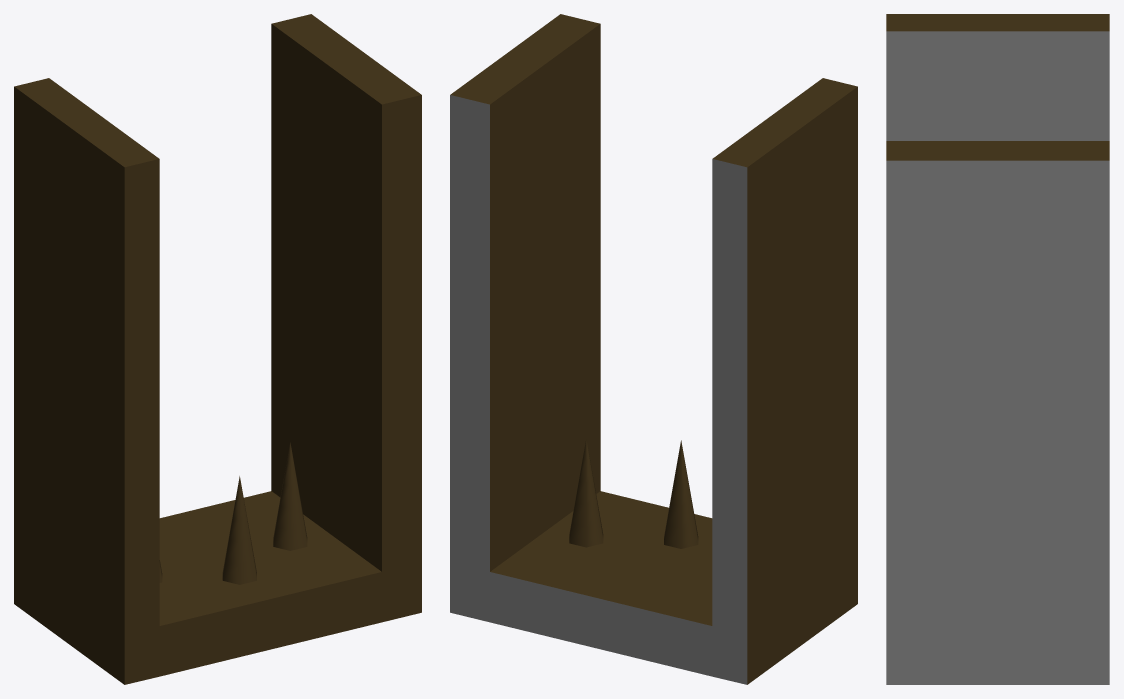
Rendered from SpikePit.FBX.
3 renders of one model, left to right at view 1: azimuth 30°, elevation 25°; view 2: azimuth 150°, elevation 25°; view 3: azimuth 270°, elevation 25°, orthographic.
Parts seen in each view (by area): view 1: Box005; view 2: Box005; view 3: Box005.
Part boxes in pixels (<box>): Box005: <box>14,14,421,684</box>; Box005: <box>450,14,857,684</box>; Box005: <box>886,14,1109,684</box>.
Size of the model in its own units: 234 by 389 by 150.
